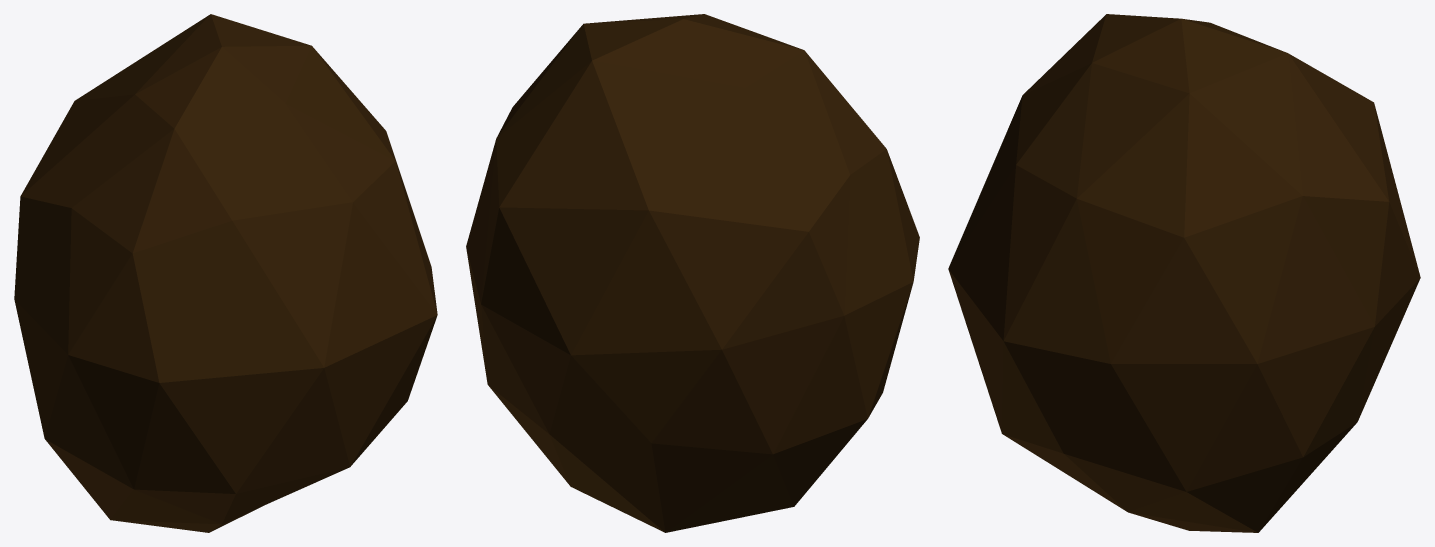
Rendered from Coconut.glb.
The picture shows the model from 3 angles, left to right: view 1: azimuth 30°, elevation 25°; view 2: azimuth 150°, elevation 25°; view 3: azimuth 270°, elevation 25°; orthographic projection. The views are drawn at different scales.
Parts seen in each view (by area): view 1: Coconut; view 2: Coconut; view 3: Coconut.
Boxes of the visible parts, <box> form: Coconut: <box>14,14,437,532</box>; Coconut: <box>466,14,919,532</box>; Coconut: <box>948,14,1420,532</box>.
Size of the model in its own units: 0.4631 by 0.5888 by 0.4876.
